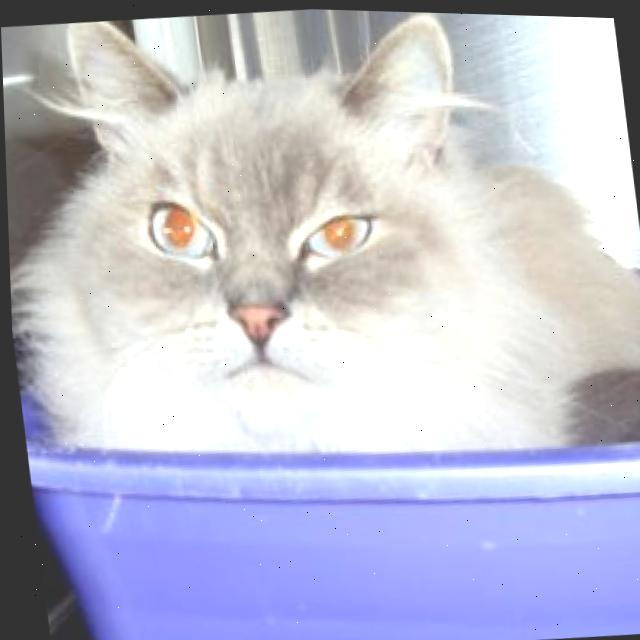Ragdoll: (0, 0, 640, 498)
